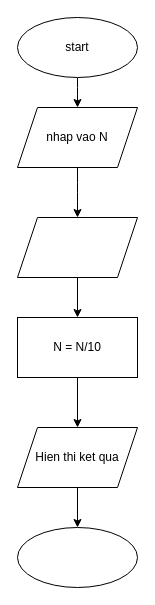
Some shapes in this 155 by 605 pixel diagram are drawn without their labels. Each missing label, with the box of its shape:
End: (16, 526, 138, 588)
lay so cuoi cung: (16, 216, 138, 278)
